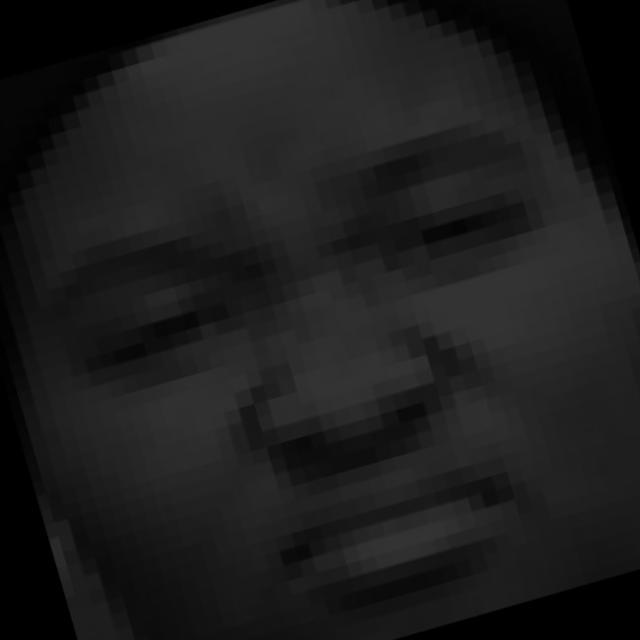Disgust: (26, 102, 640, 595)
